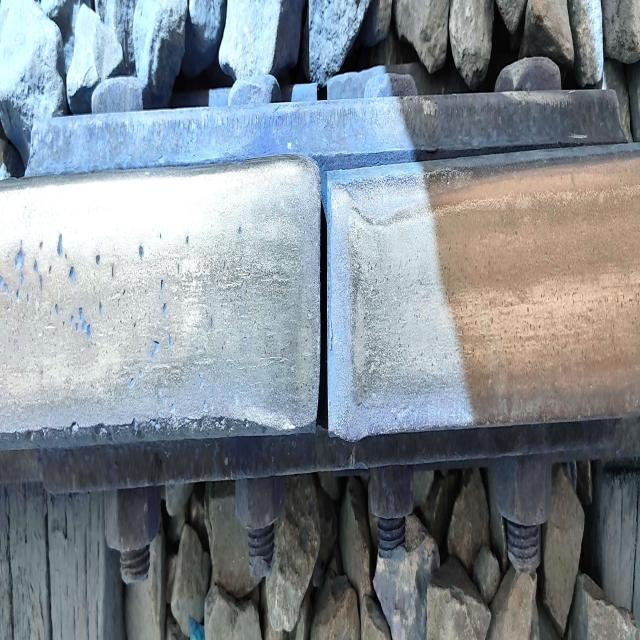Good Joint: (24, 54, 631, 575)
